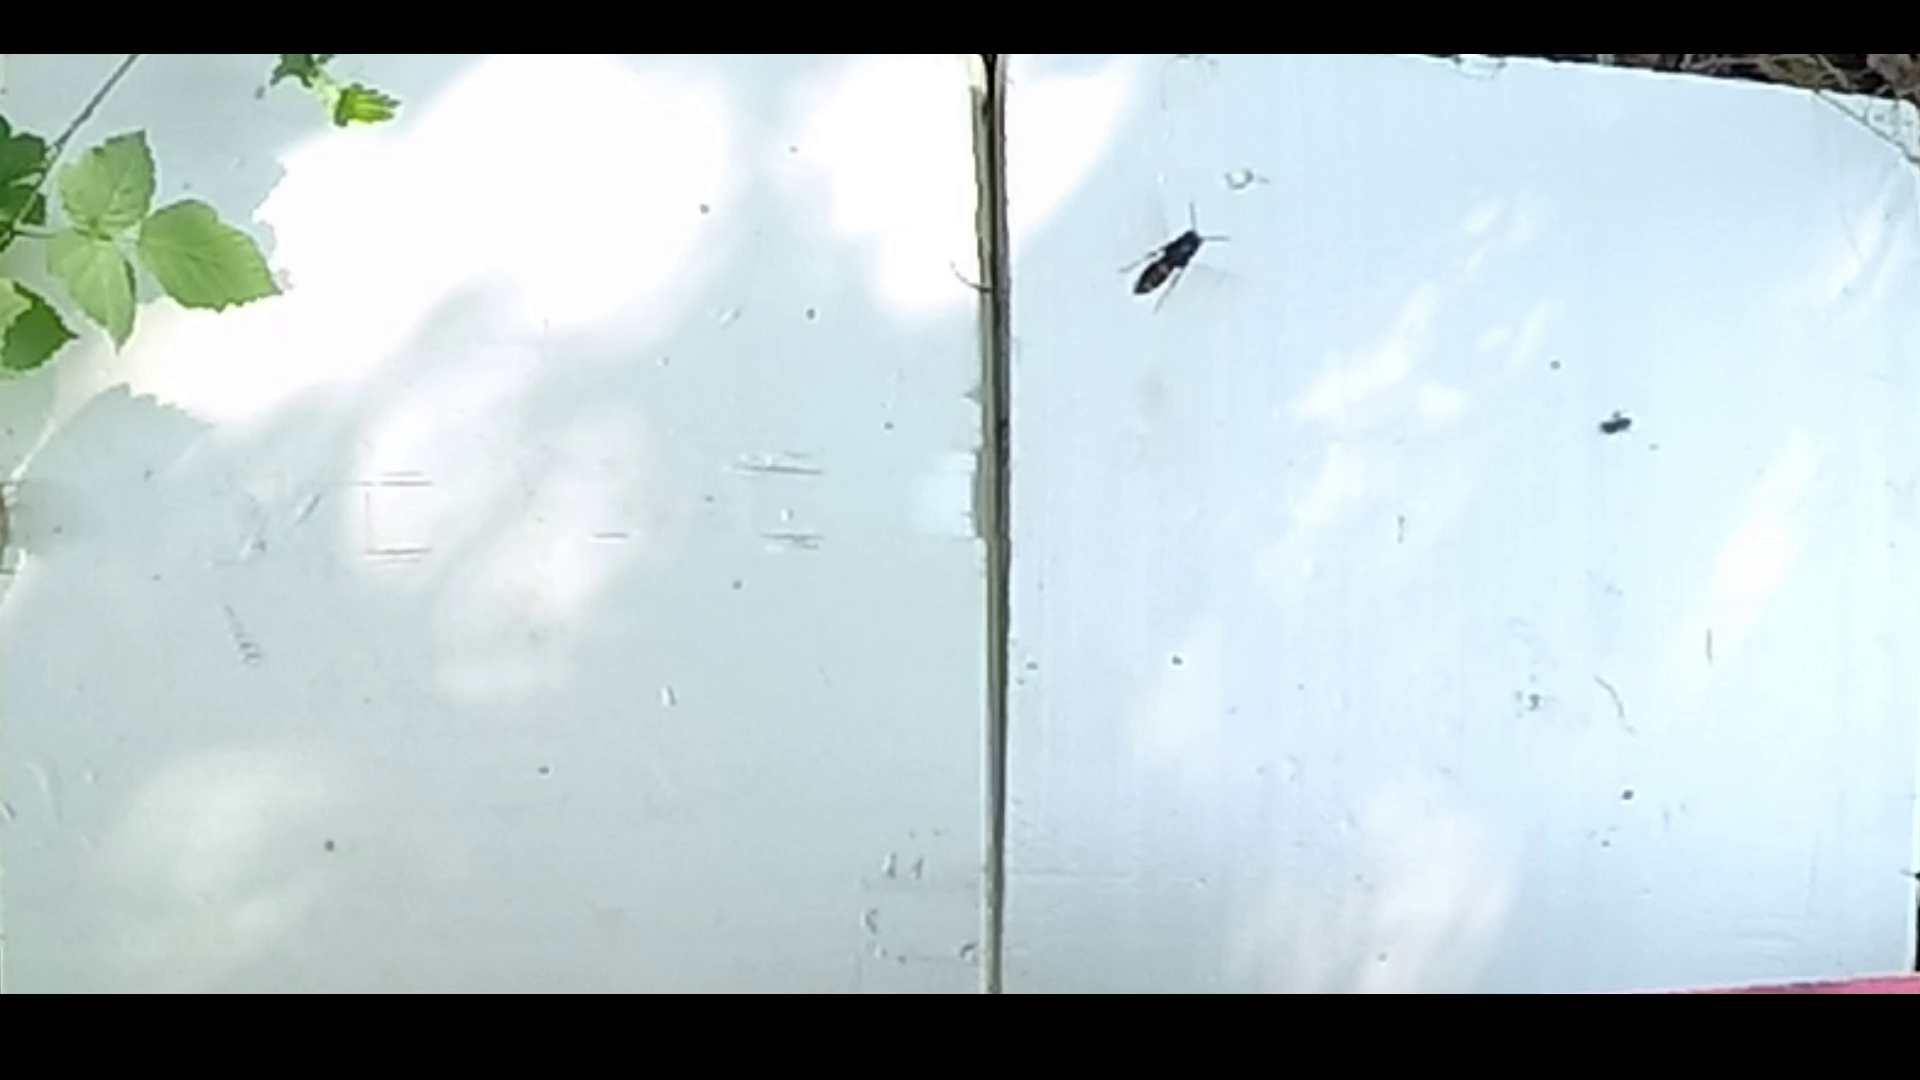Asian_hornets: (1106, 193, 1237, 320)
